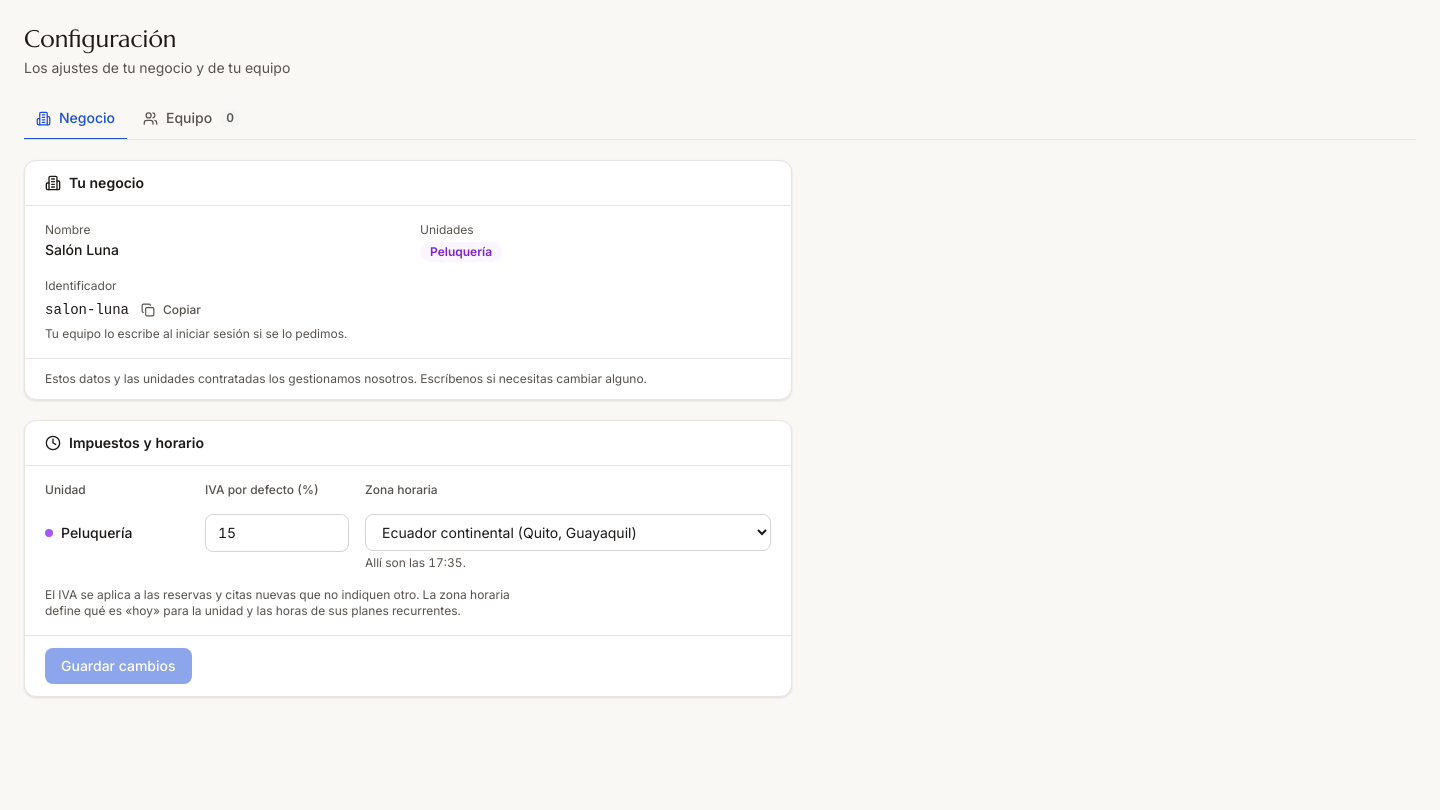
Test: saving a unit's settings › refuses an empty VAT instead of saving zero
Clear the number field named "IVA por defecto": x=277, y=533 x1=205 y1=514 x2=349 y2=552
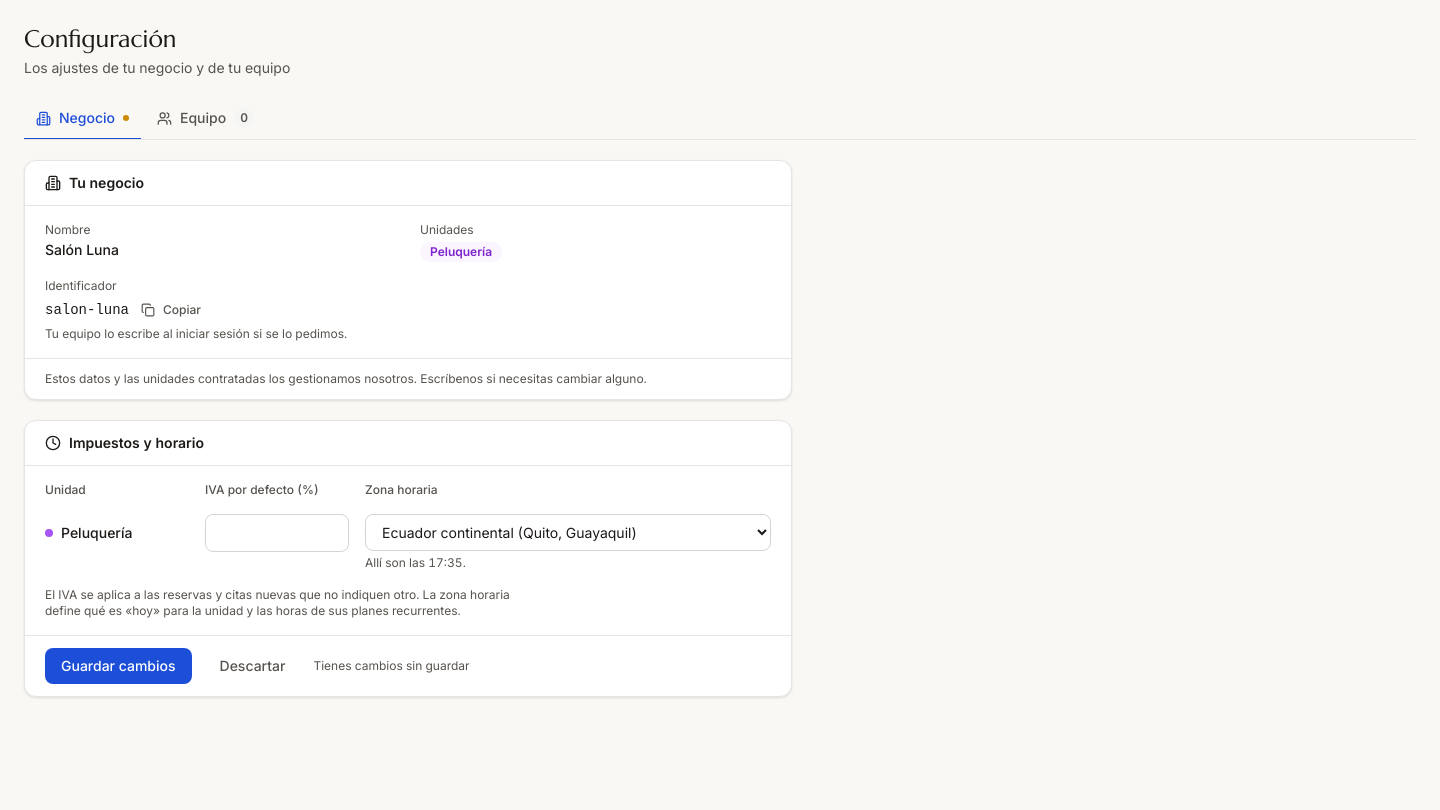
Click the button "Guardar cambios": x=118, y=666 x1=45 y1=648 x2=192 y2=684
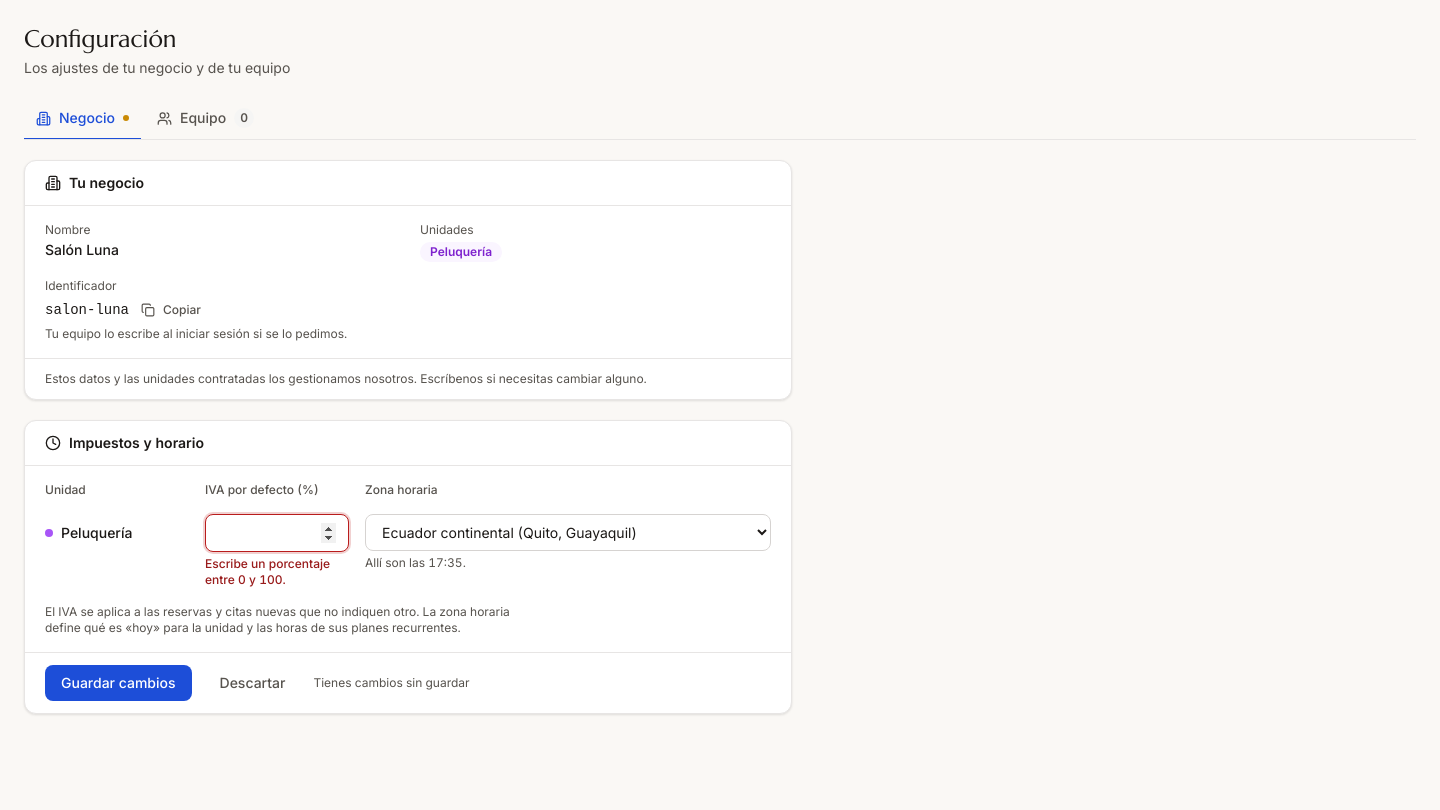
Expected: the text "Escribe un porcentaje entre 0 y 100." is shown, x1=205 y1=556 x2=349 y2=588
